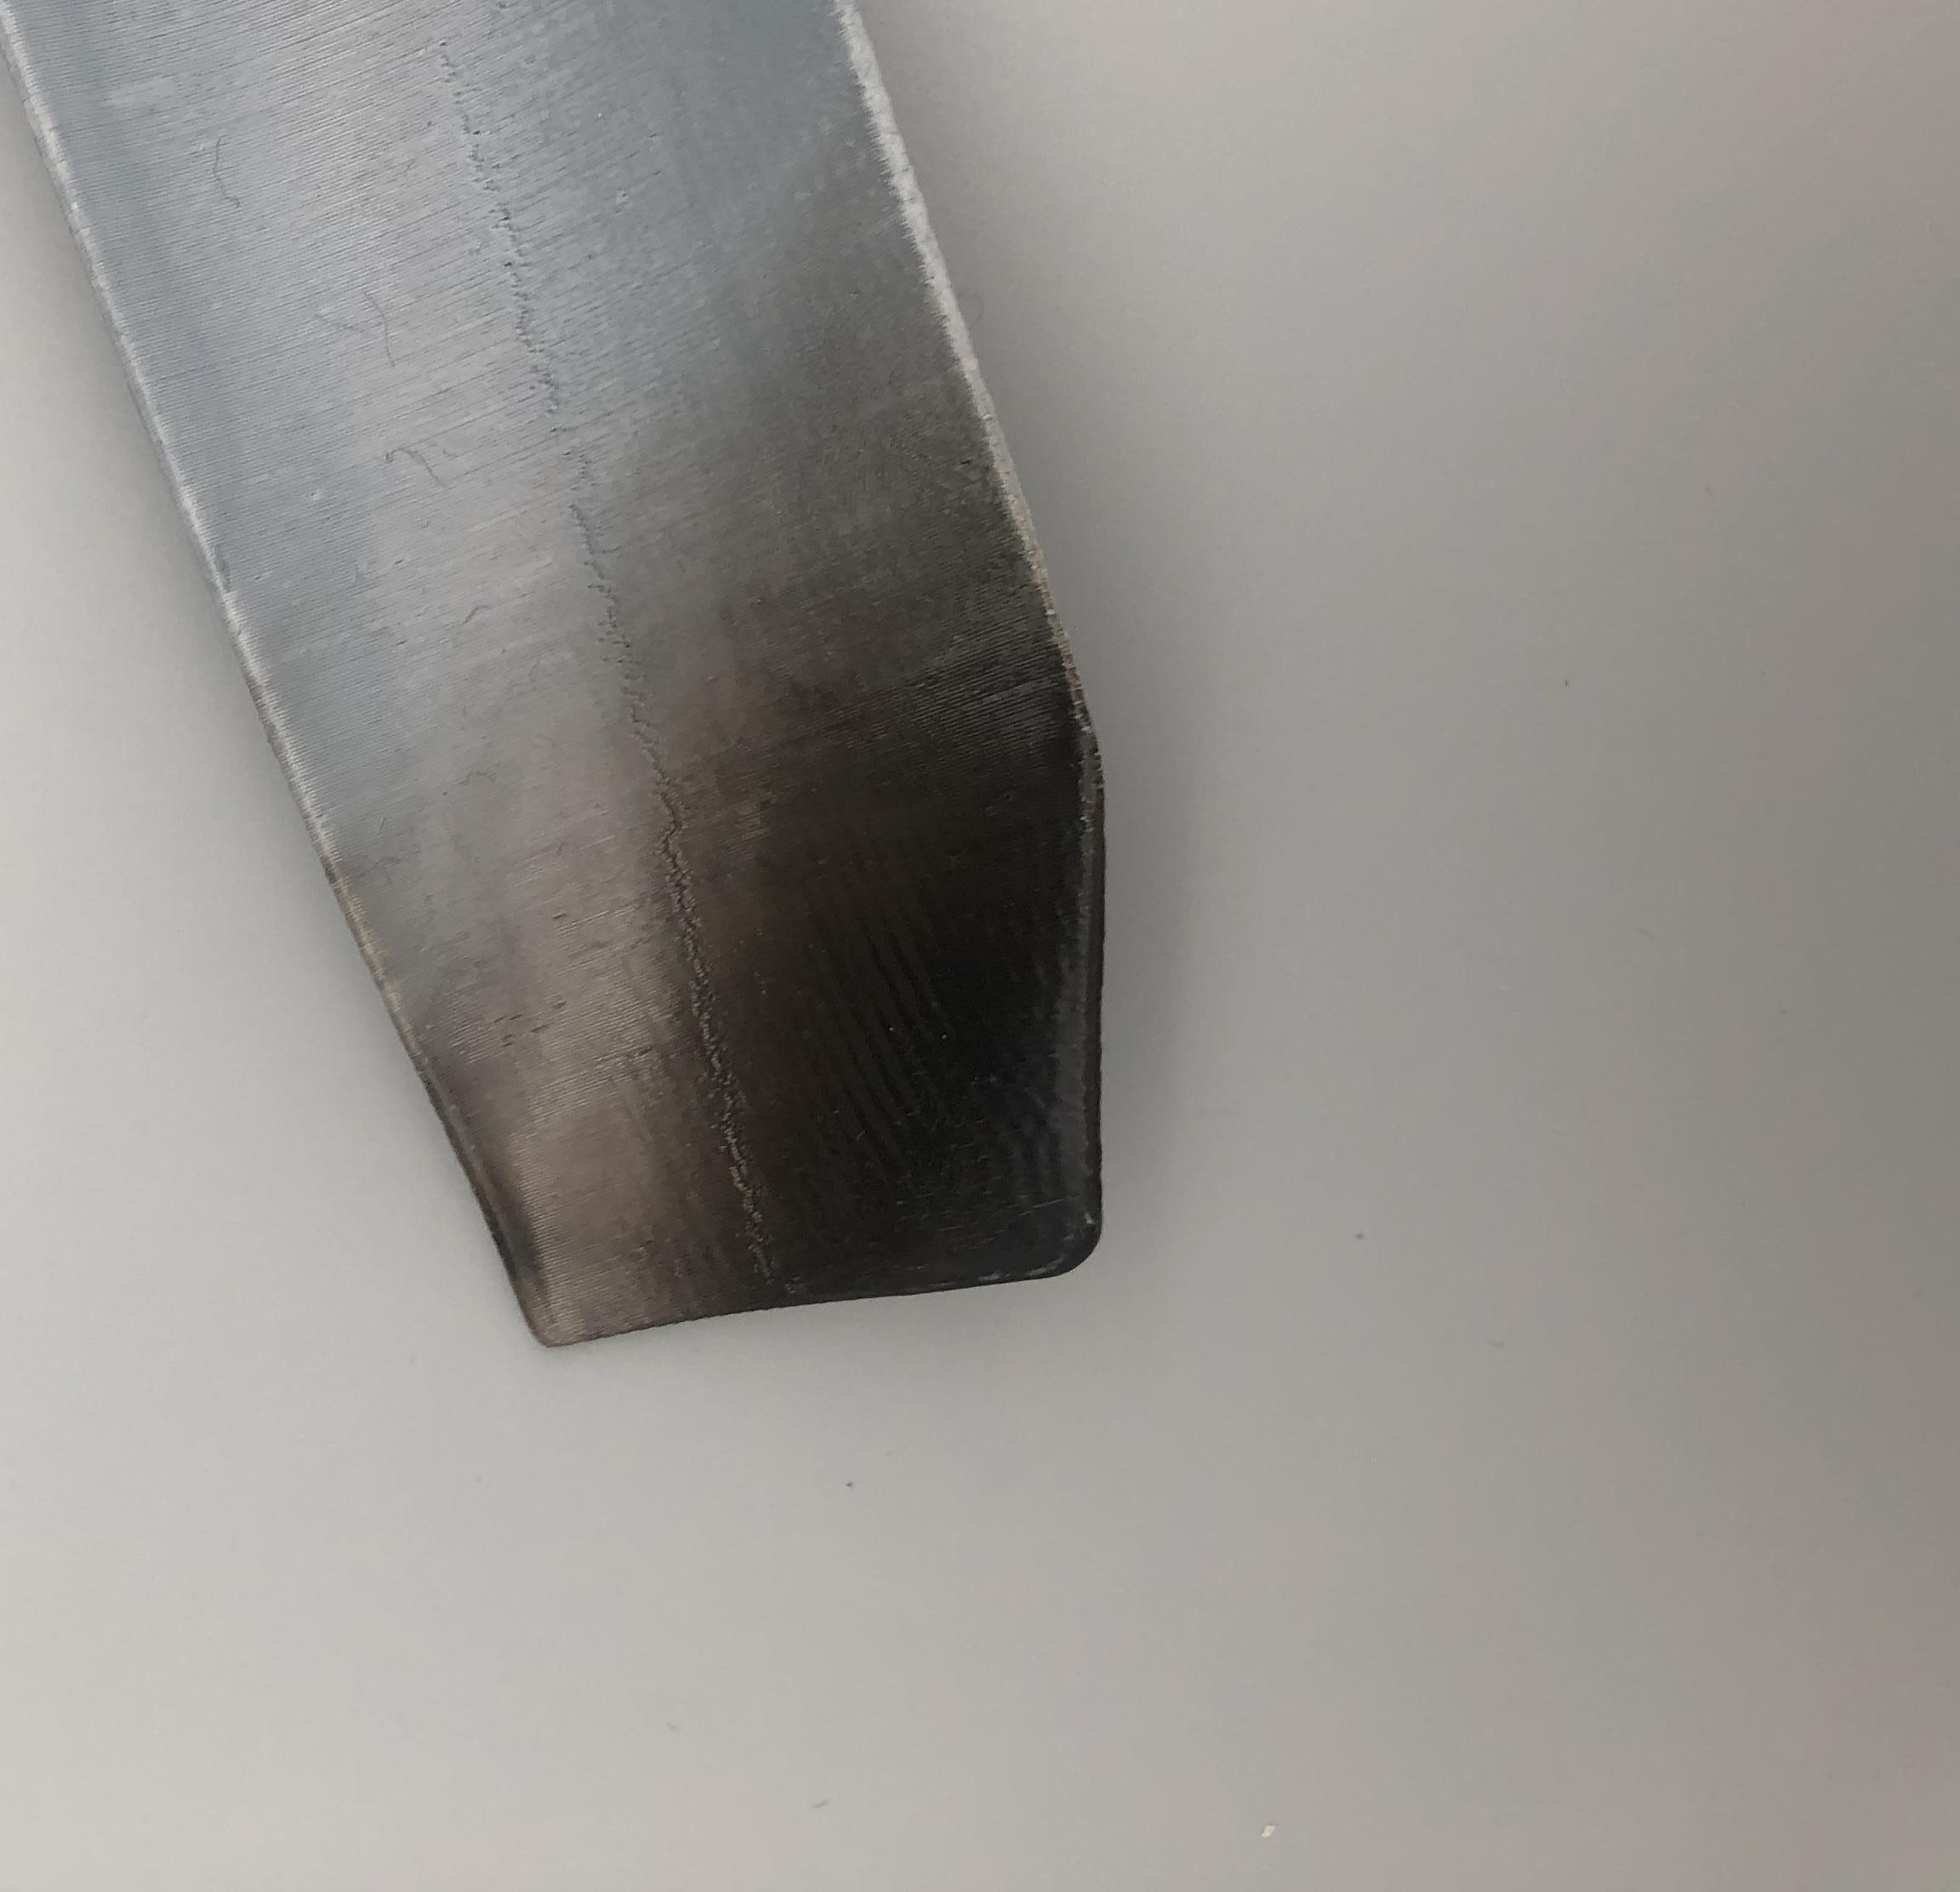ablation: (611, 702, 1076, 1239)
